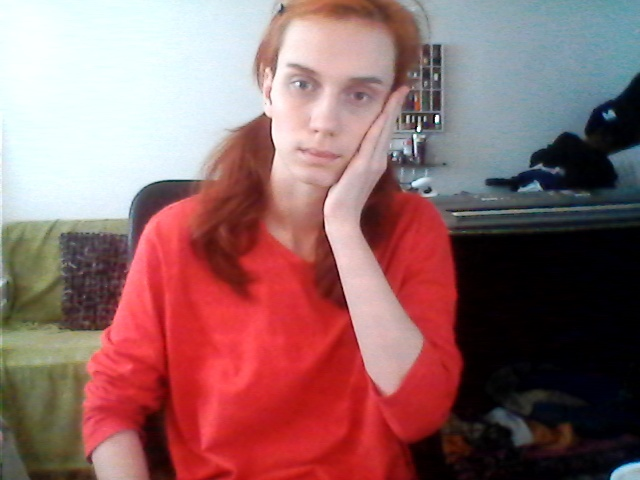lezat: (320, 87, 414, 269)
